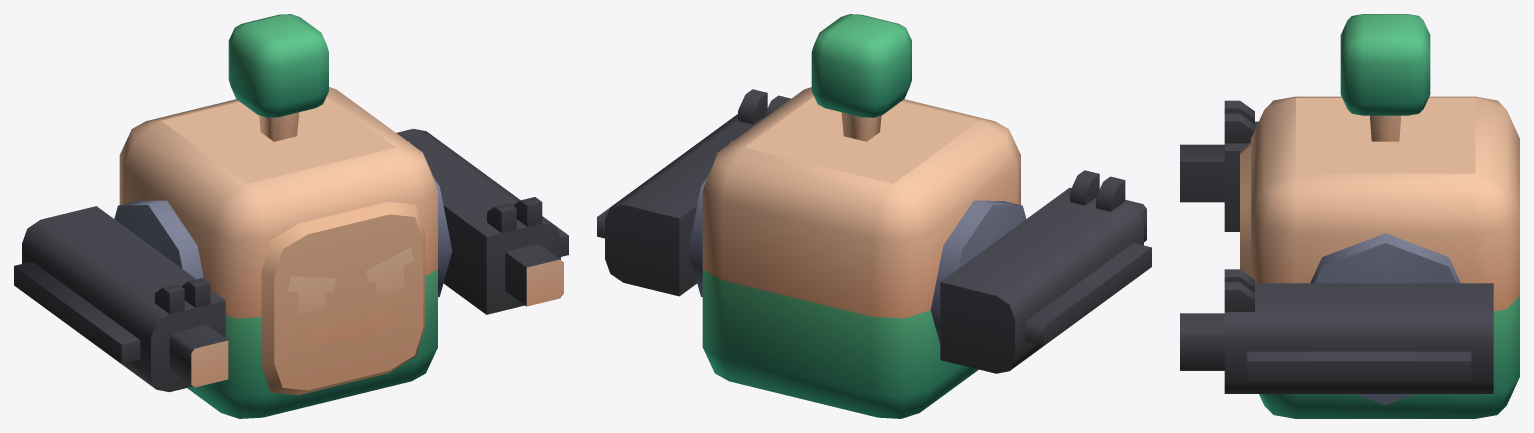
The model's file is enemy-flying.glb.
The picture shows the model from 3 angles, left to right: view 1: azimuth 30°, elevation 25°; view 2: azimuth 150°, elevation 25°; view 3: azimuth 270°, elevation 25°; orthographic projection. The views are drawn at different scales.
Visible parts, largest first — view 1: torso, blaster-right, blaster-left, antenna; view 2: torso, blaster-right, blaster-left, antenna; view 3: torso, blaster-left, antenna, blaster-right.
Part boxes in pixels (x1=…): torso: x1=119, y1=87, x2=437, y2=418; blaster-right: x1=14, y1=200, x2=228, y2=392; blaster-left: x1=396, y1=128, x2=568, y2=314; antenna: x1=228, y1=14, x2=328, y2=141; torso: x1=702, y1=87, x2=1020, y2=418; blaster-right: x1=930, y1=170, x2=1151, y2=373; blaster-left: x1=597, y1=89, x2=790, y2=296; antenna: x1=811, y1=14, x2=911, y2=141; torso: x1=1240, y1=96, x2=1519, y2=418; blaster-left: x1=1180, y1=233, x2=1493, y2=405; antenna: x1=1340, y1=14, x2=1430, y2=141; blaster-right: x1=1180, y1=100, x2=1258, y2=231.
Size of the model in its own units: 1.2 by 0.875 by 0.7586.
Materials: 1 (1 with a texture image).
